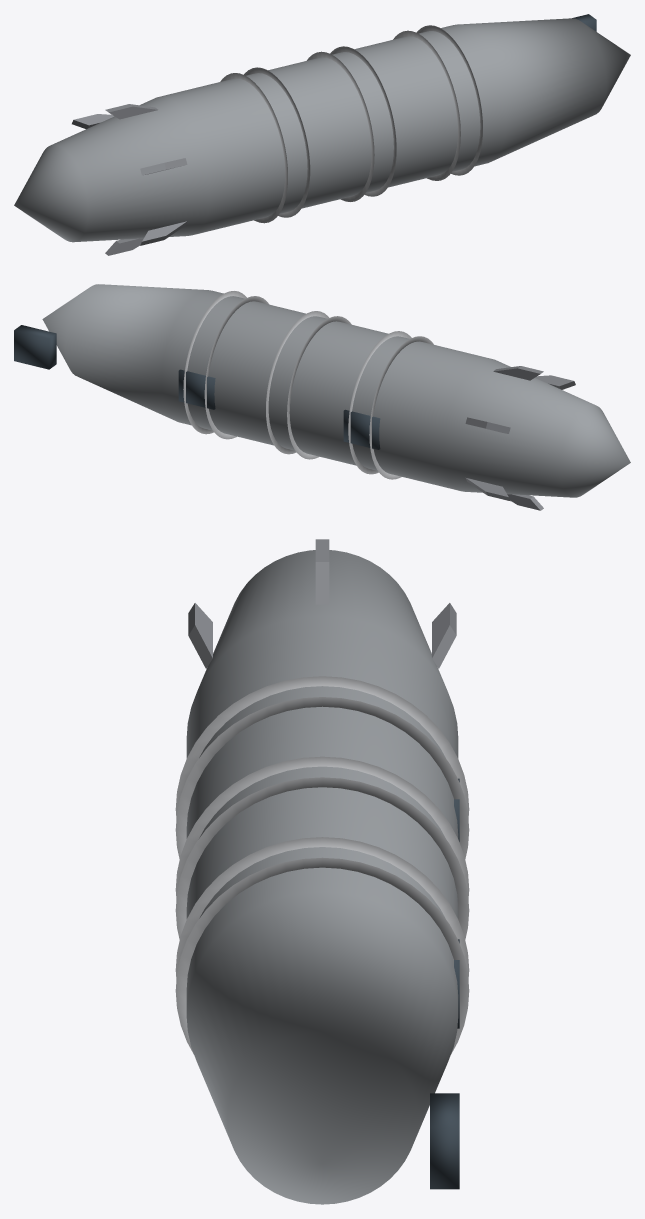
The model's file is US_DECOY_Mk70_MOSS_LOD0.fbx.
3 renders of one model, top to bottom at view 1: azimuth 30°, elevation 25°; view 2: azimuth 150°, elevation 25°; view 3: azimuth 270°, elevation 25°, orthographic. The views are drawn at different scales.
Parts seen in each view (by area): view 1: WPN_US_DECOY_Mk70_MOSS_LOD0_Body, WPN_US_DECOY_Mk70_MOSS_LOD0_Detail, WPN_US_DECOY_Mk70_MOSS_LOD0_Fins; view 2: WPN_US_DECOY_Mk70_MOSS_LOD0_Body, WPN_US_DECOY_Mk70_MOSS_LOD0_Detail, WPN_US_DECOY_Mk70_MOSS_LOD0_Seeker, WPN_US_DECOY_Mk70_MOSS_LOD0_Fins; view 3: WPN_US_DECOY_Mk70_MOSS_LOD0_Body, WPN_US_DECOY_Mk70_MOSS_LOD0_Detail, WPN_US_DECOY_Mk70_MOSS_LOD0_Seeker, WPN_US_DECOY_Mk70_MOSS_LOD0_Fins.
Boxes of the visible parts, x1,y1,x2,y2 form: WPN_US_DECOY_Mk70_MOSS_LOD0_Body: (14, 18, 630, 242); WPN_US_DECOY_Mk70_MOSS_LOD0_Detail: (220, 25, 482, 223); WPN_US_DECOY_Mk70_MOSS_LOD0_Fins: (72, 104, 187, 255); WPN_US_DECOY_Mk70_MOSS_LOD0_Body: (42, 284, 630, 497); WPN_US_DECOY_Mk70_MOSS_LOD0_Detail: (183, 291, 433, 479); WPN_US_DECOY_Mk70_MOSS_LOD0_Seeker: (14, 325, 380, 449); WPN_US_DECOY_Mk70_MOSS_LOD0_Fins: (465, 366, 575, 510); WPN_US_DECOY_Mk70_MOSS_LOD0_Body: (186, 550, 458, 1204); WPN_US_DECOY_Mk70_MOSS_LOD0_Detail: (175, 676, 469, 1054); WPN_US_DECOY_Mk70_MOSS_LOD0_Seeker: (430, 778, 459, 1189); WPN_US_DECOY_Mk70_MOSS_LOD0_Fins: (188, 539, 456, 668).
Bounding box in the file's own units: 1 × 0.216 × 0.2222.
